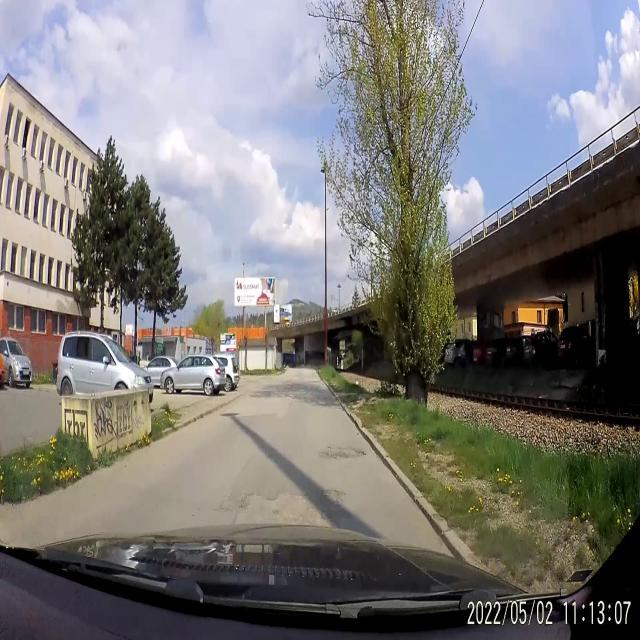Pothole: (316, 436, 374, 472), (227, 487, 256, 518), (320, 486, 348, 516)
